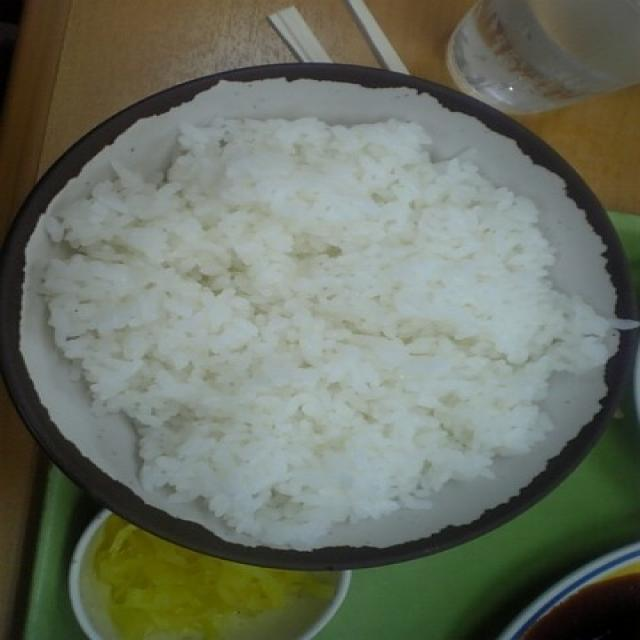rice: (30, 113, 640, 555)
